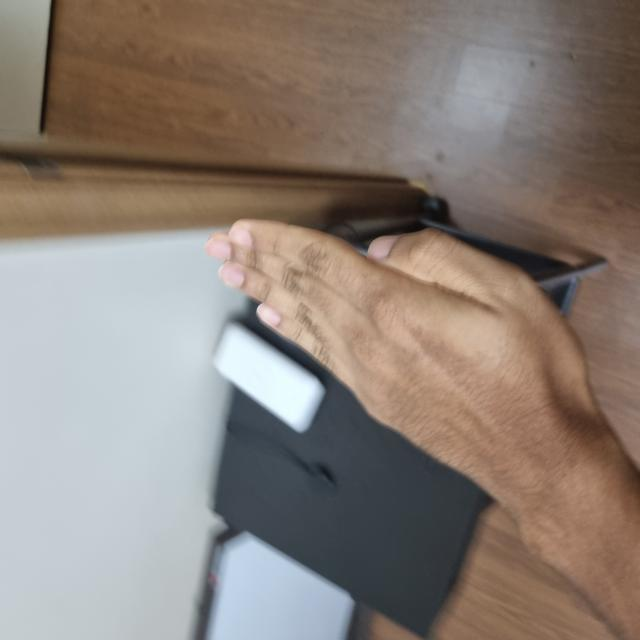Paper: (113, 218, 418, 602)
